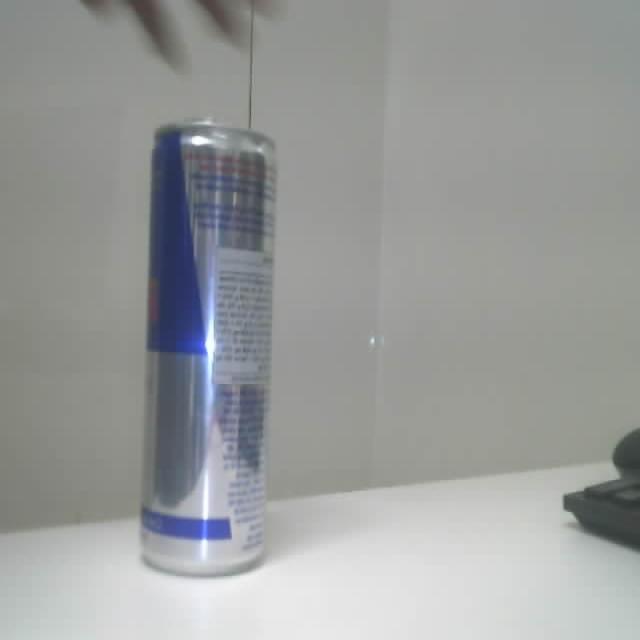redbull can: (141, 120, 274, 574)
